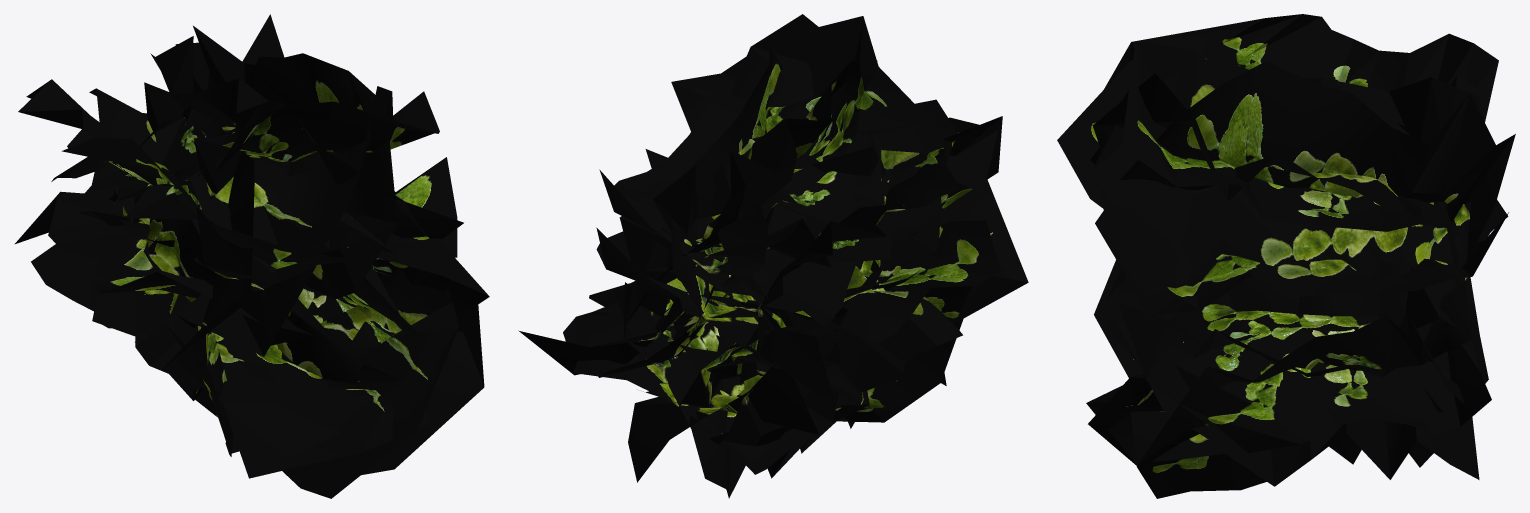
3 renders of one model, left to right at view 1: azimuth 30°, elevation 25°; view 2: azimuth 150°, elevation 25°; view 3: azimuth 270°, elevation 25°, orthographic. The views are drawn at different scales.
Visible parts, largest first — view 1: RS15v2; view 2: RS15v2; view 3: RS15v2.
Part boxes in pixels (bbox=[...]): RS15v2: bbox=[15, 14, 489, 498]; RS15v2: bbox=[518, 14, 1028, 498]; RS15v2: bbox=[1057, 14, 1515, 498].
Bounding box in the file's own units: 2.4 × 2.39 × 2.29.
3 materials, 3 textured.
